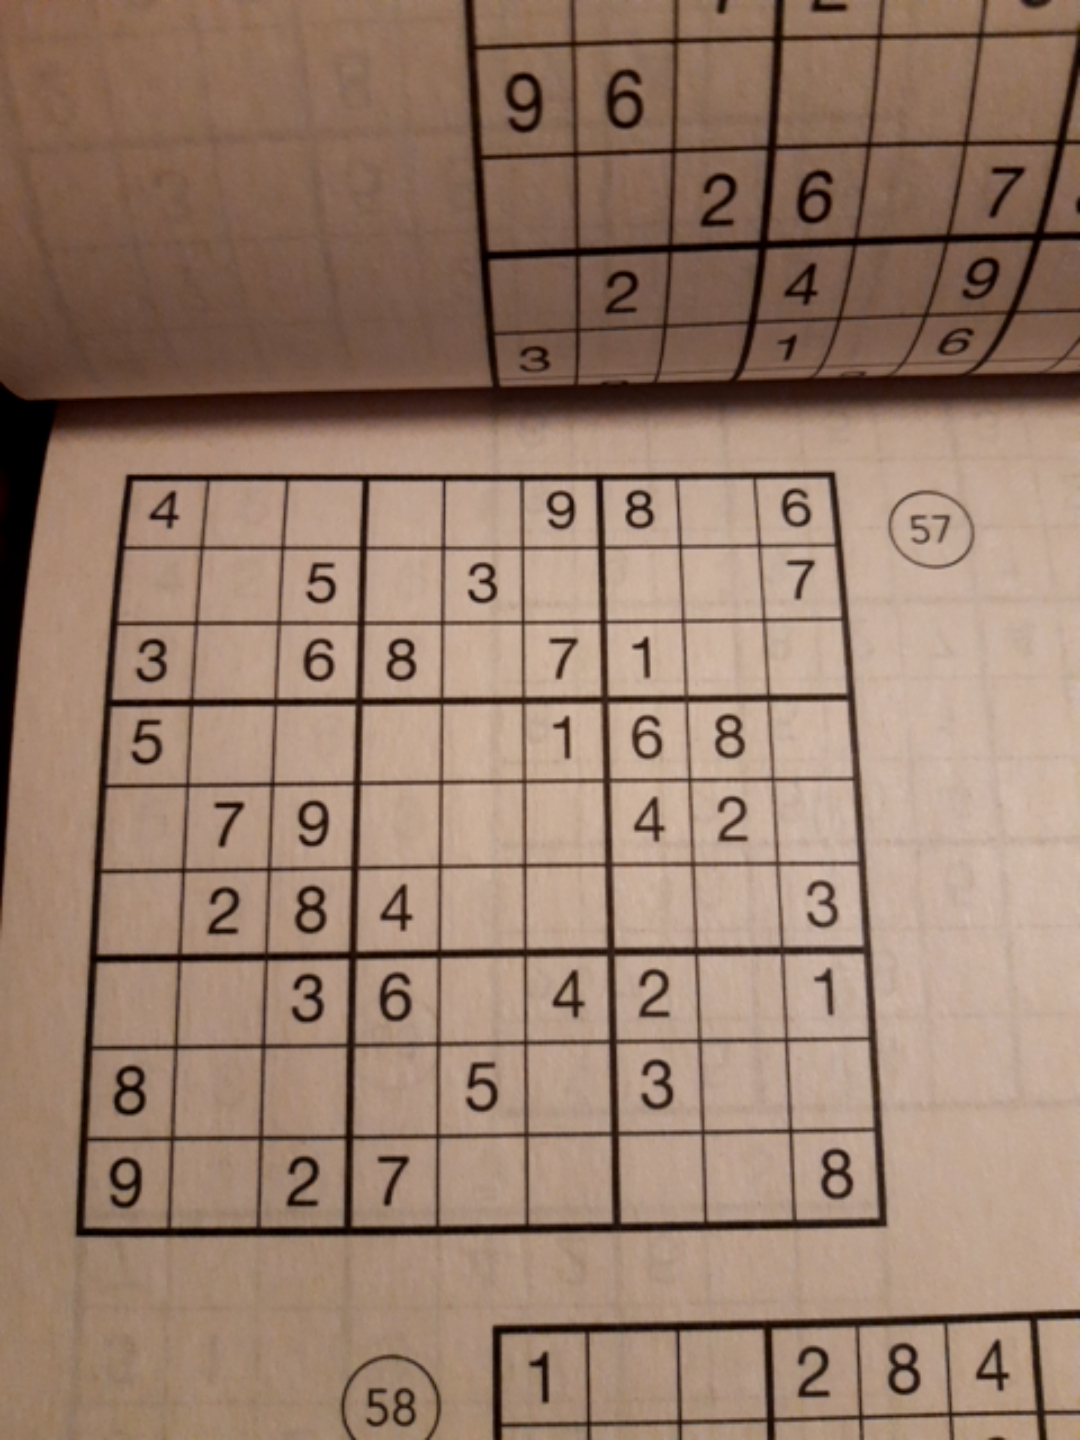sudoku: (64, 469, 892, 1233)
